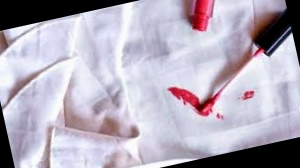lipstick: (164, 81, 206, 117), (193, 99, 218, 122), (239, 87, 257, 104), (218, 110, 227, 120)
